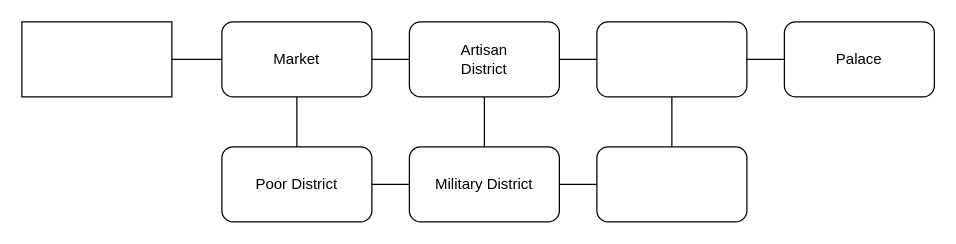
The diagram is 956 pixels wide and 244 high, and some of its shapes have lost their labels. The box of each missing label's shape, as (x1, y1, x2, y2) in pixels:
City Gate: (21, 21, 172, 97)
Lakeside: (596, 146, 747, 222)
Religious Elite District: (596, 21, 747, 97)
